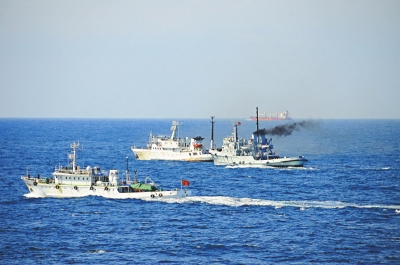Cargoship: (249, 106, 293, 122)
warship: (16, 145, 195, 204), (125, 123, 248, 161), (204, 121, 301, 169)
